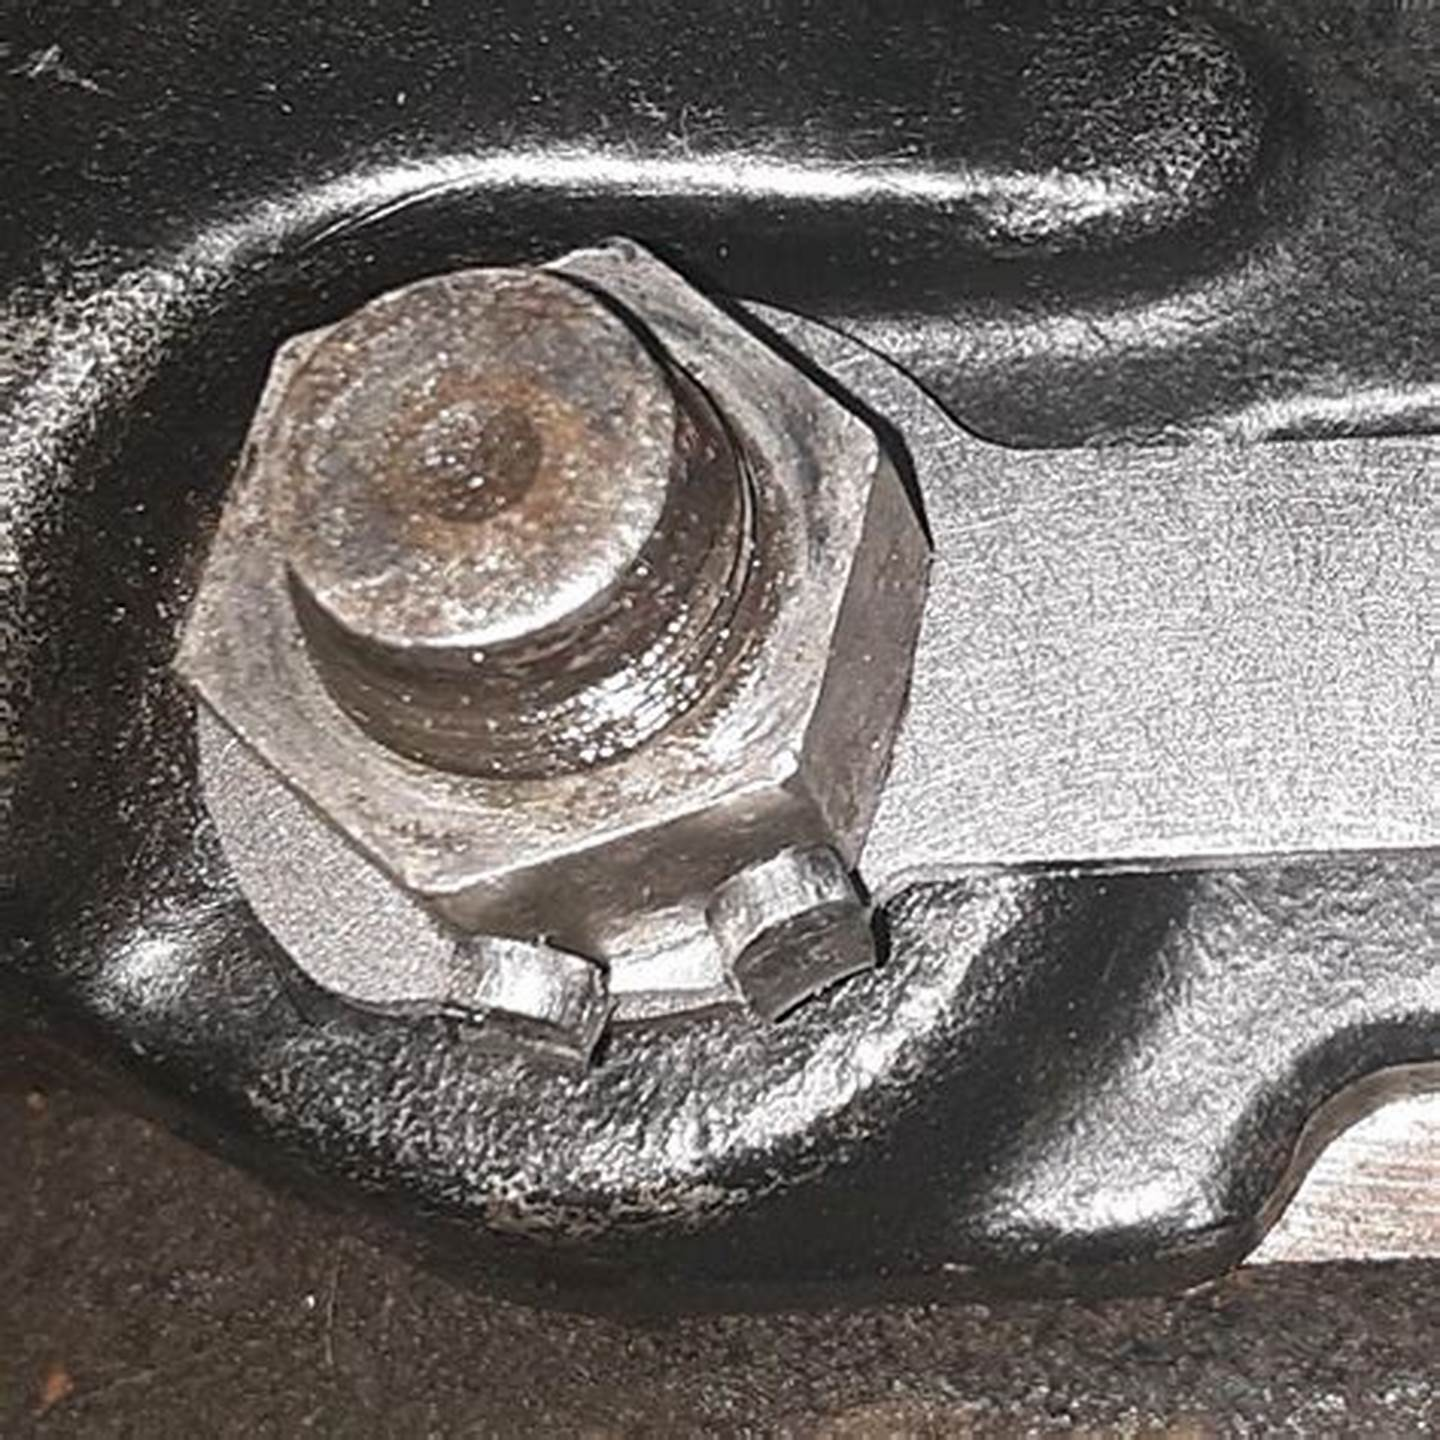bolt_b: (165, 229, 934, 975)
